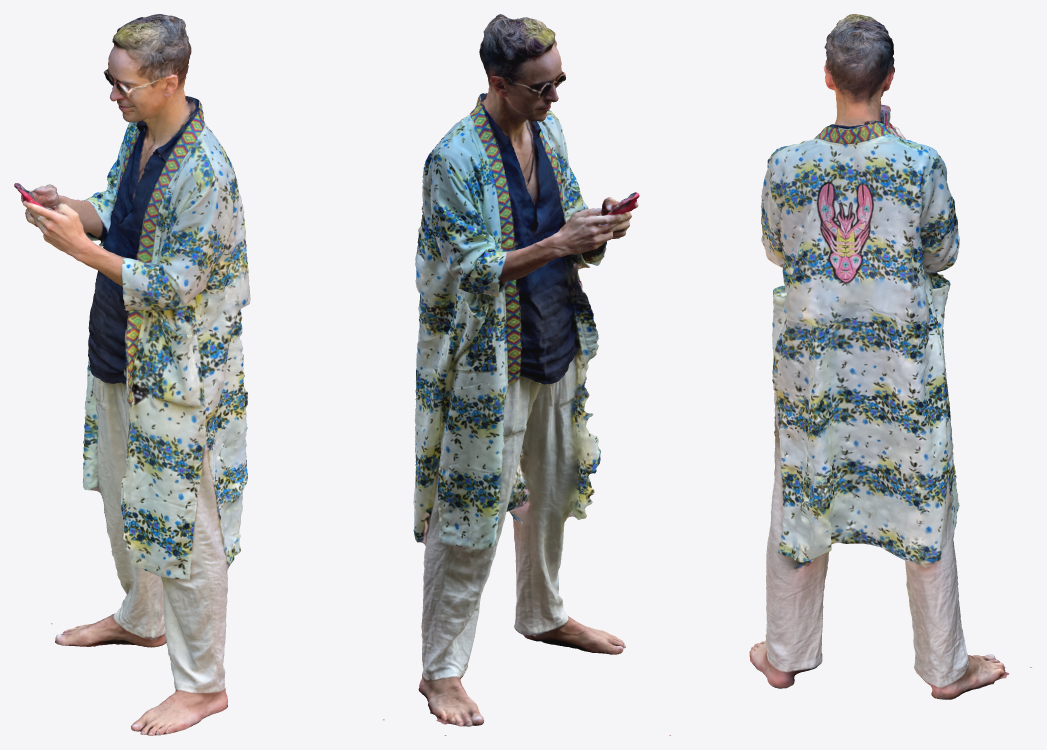
Rendered from morgans_pink_lobster_kimono.glb.
The picture shows the model from 3 angles, left to right: view 1: azimuth 30°, elevation 25°; view 2: azimuth 150°, elevation 25°; view 3: azimuth 270°, elevation 25°; orthographic projection. The views are drawn at different scales.
Parts seen in each view (by area): view 1: Object_2, Object_3; view 2: Object_2, Object_3; view 3: Object_2, Object_3.
Part boxes in pixels (<box>): Object_2: <box>14,28,384,735</box>; Object_3: <box>87,14,243,595</box>; Object_2: <box>413,68,639,735</box>; Object_3: <box>415,14,598,643</box>; Object_2: <box>669,35,1031,735</box>; Object_3: <box>761,14,953,622</box>.
Bounding box in the file's own units: 0.6358 × 1.54 × 0.7795.
Materials: 1 (1 with a texture image).
